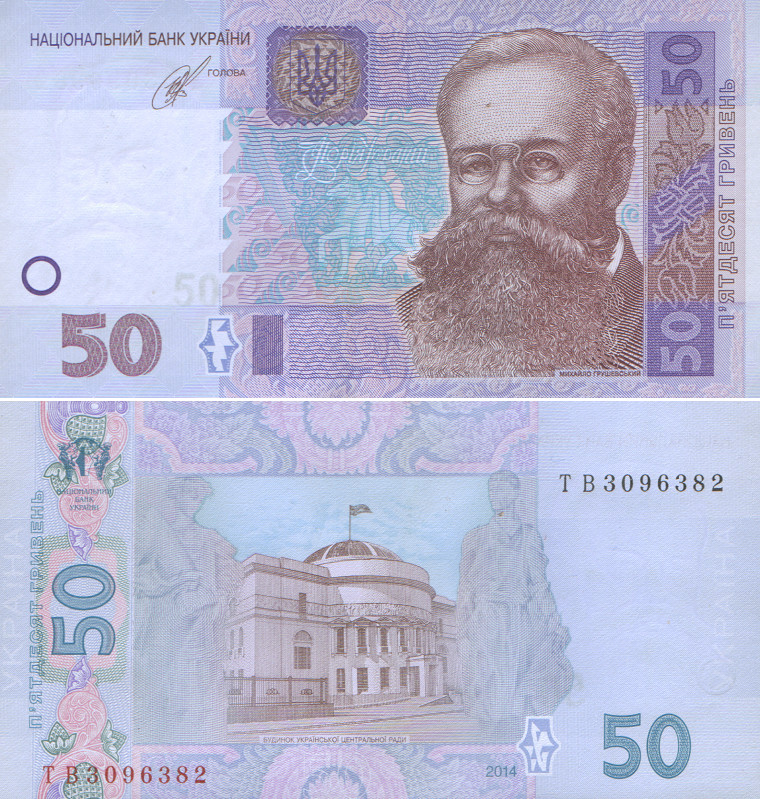bn_50: (3, 402, 757, 798), (2, 1, 756, 396)
